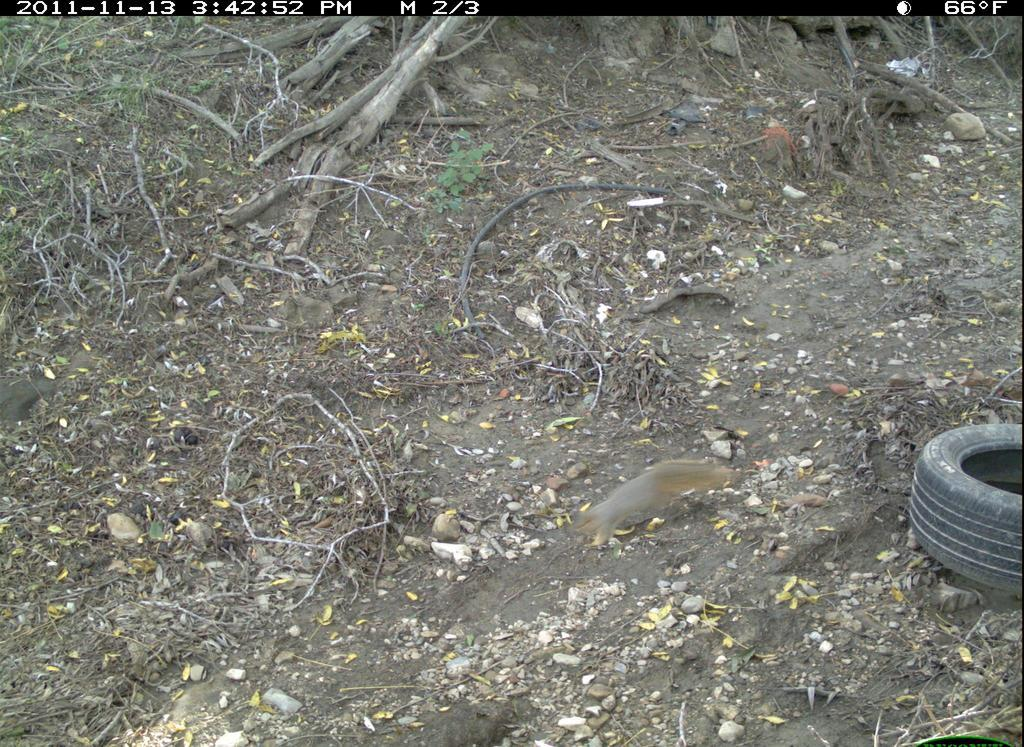squirrel: (566, 454, 743, 556)
